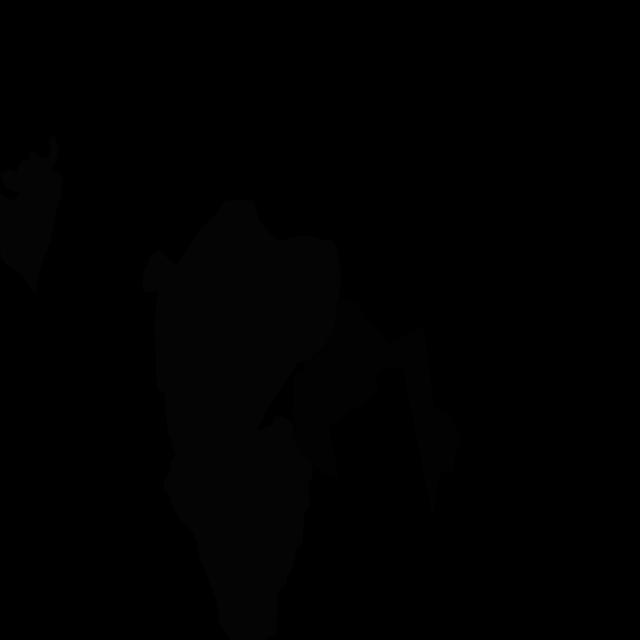cardboard: (292, 295, 462, 519)
soft_plastic: (142, 200, 341, 495), (164, 416, 313, 640), (0, 136, 63, 294)
